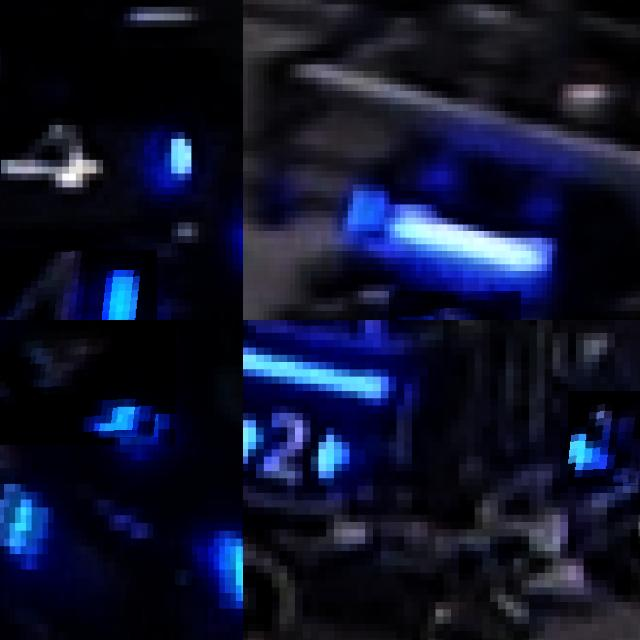B2: (243, 398, 349, 492), (568, 391, 640, 485), (389, 291, 520, 320)
B4: (0, 320, 175, 445), (0, 250, 157, 320), (197, 483, 243, 632), (0, 417, 42, 542)
